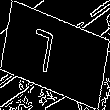L_S: (41, 27, 69, 83)
